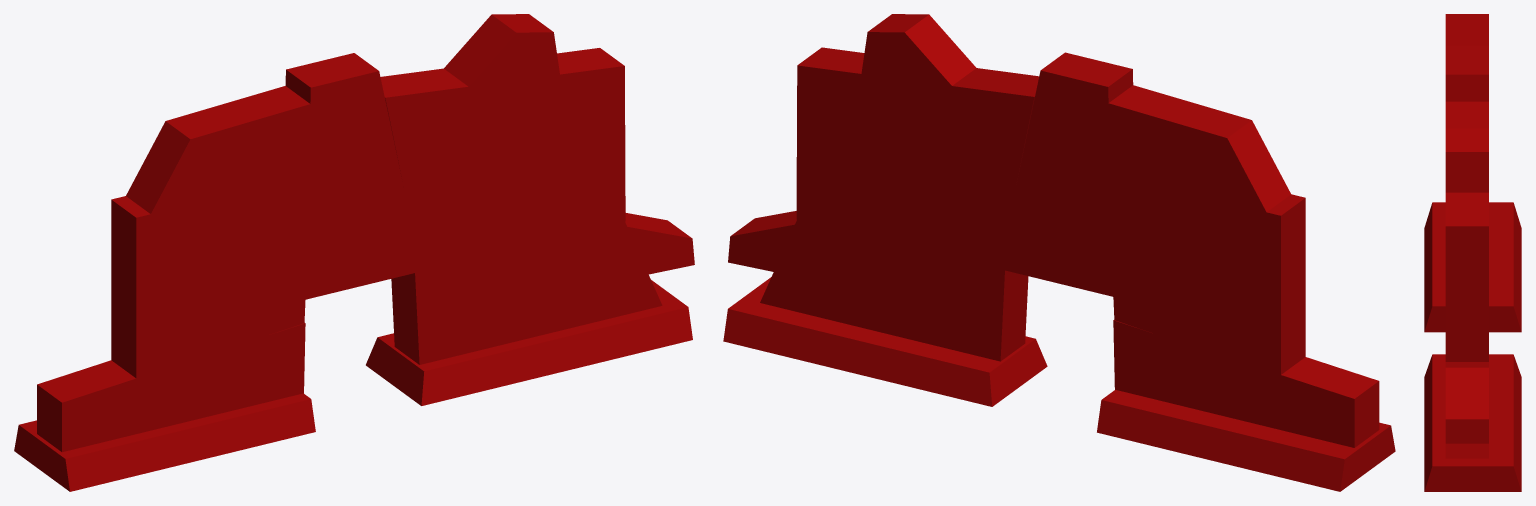
File: SM_Bld_Ruins_Wall_02_Collision.glb
3 views of the same model, side by side, from view 1: azimuth 30°, elevation 25°; view 2: azimuth 150°, elevation 25°; view 3: azimuth 270°, elevation 25° (orthographic). The views are drawn at different scales.
Parts seen in each view (by area): view 1: SM_Bld_Ruins_Wall_02_Collision; view 2: SM_Bld_Ruins_Wall_02_Collision; view 3: SM_Bld_Ruins_Wall_02_Collision.
Part boxes in pixels (bbox=[...]): SM_Bld_Ruins_Wall_02_Collision: bbox=[14, 14, 694, 491]; SM_Bld_Ruins_Wall_02_Collision: bbox=[723, 14, 1395, 491]; SM_Bld_Ruins_Wall_02_Collision: bbox=[1424, 14, 1521, 491].
Bounding box in the file's own units: 11.36 × 5.76 × 1.73.
